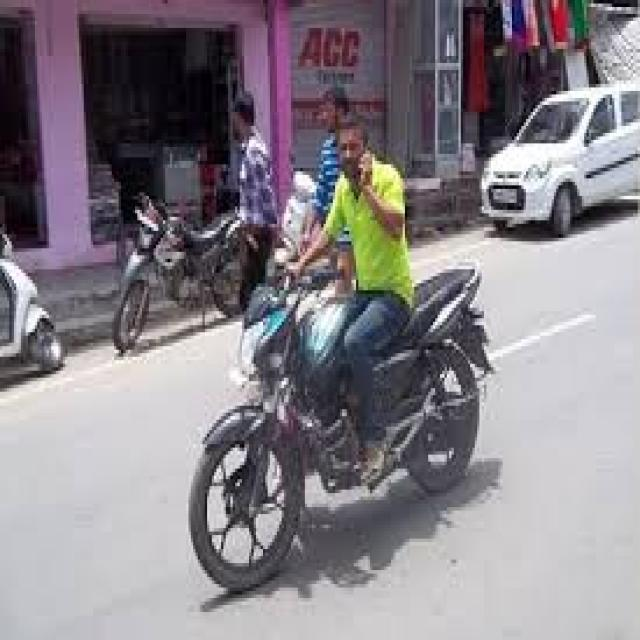USING_MOBILE: (362, 149, 406, 237)
